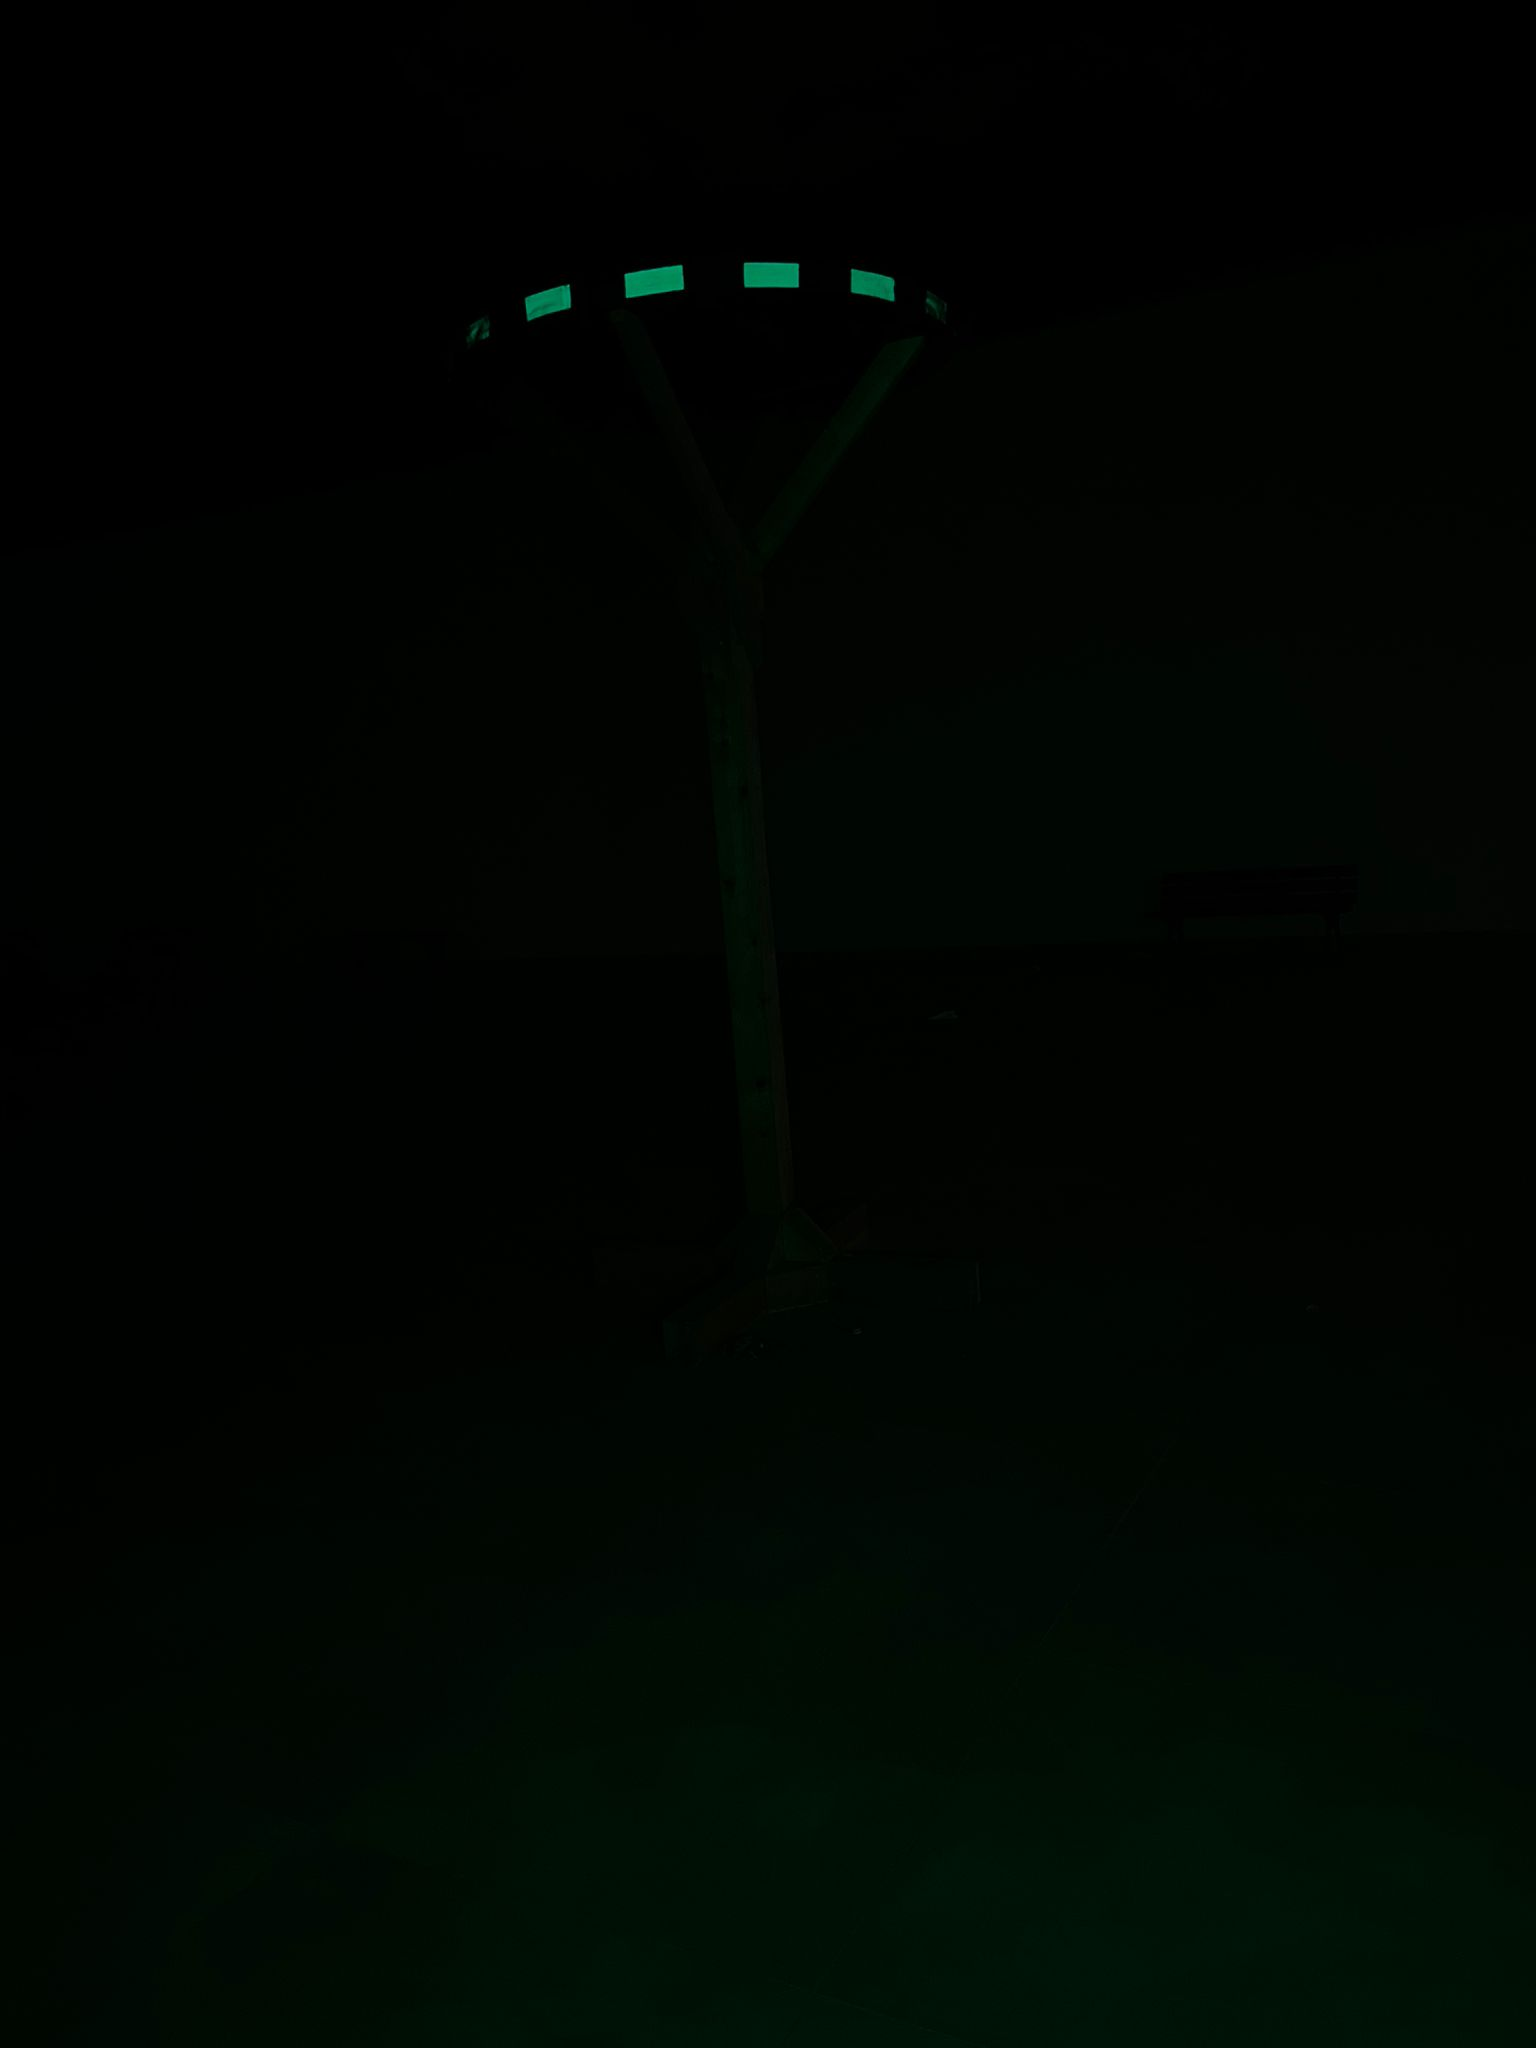hoop: (503, 253, 904, 331)
